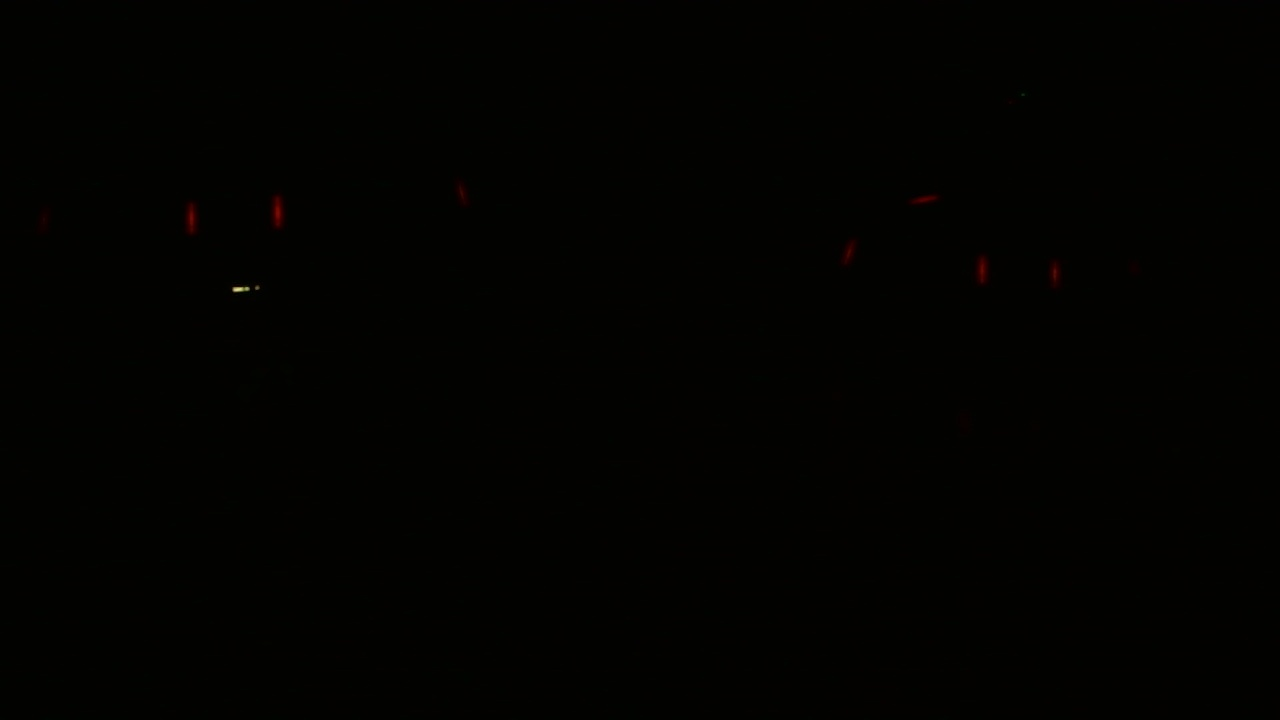pair1: (968, 253, 1066, 295), (179, 195, 286, 233)
